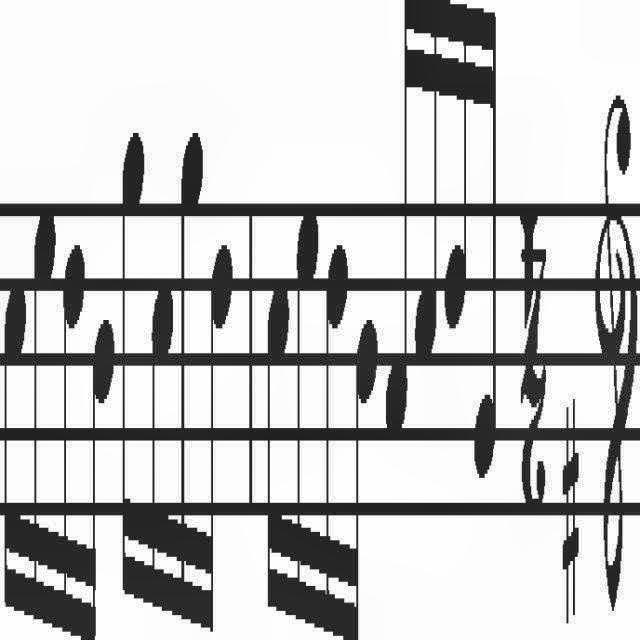Bass-clef: (594, 93, 638, 619)
Diez: (560, 389, 580, 621)
Sixteenth-note: (178, 124, 206, 630), (472, 6, 500, 494), (201, 249, 235, 639), (121, 120, 147, 606), (386, 0, 414, 432), (34, 210, 58, 634), (348, 312, 379, 640), (296, 213, 320, 632), (62, 245, 86, 640), (324, 249, 348, 639), (266, 280, 292, 628), (443, 0, 469, 340), (417, 0, 441, 358), (88, 324, 115, 640), (4, 283, 28, 627), (150, 284, 174, 624)
